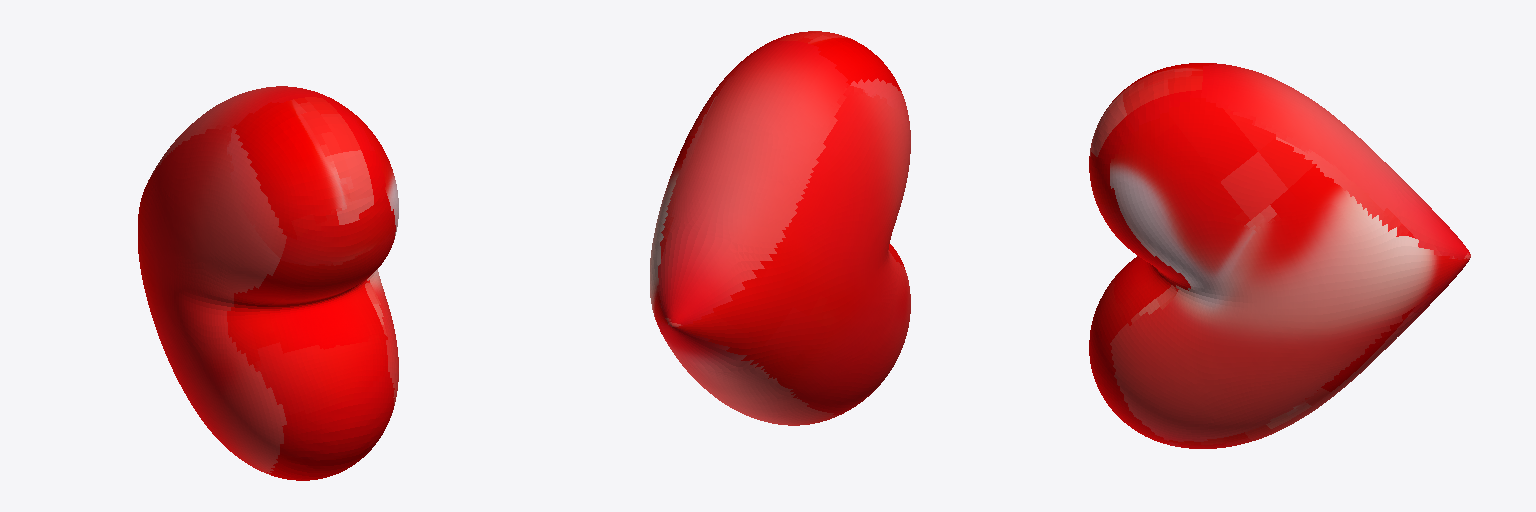
3 views of the same model, side by side, from view 1: azimuth 30°, elevation 25°; view 2: azimuth 150°, elevation 25°; view 3: azimuth 270°, elevation 25° (orthographic).
Visible parts, largest first — view 1: model; view 2: model; view 3: model.
Part boxes in pixels (left/top/right/bottom): model: left=138, top=86, right=398, bottom=480; model: left=650, top=31, right=910, bottom=425; model: left=1089, top=63, right=1470, bottom=448.
Bounding box in the file's own units: 1.04 × 1.9 × 1.78.
1 materials, 1 textured.